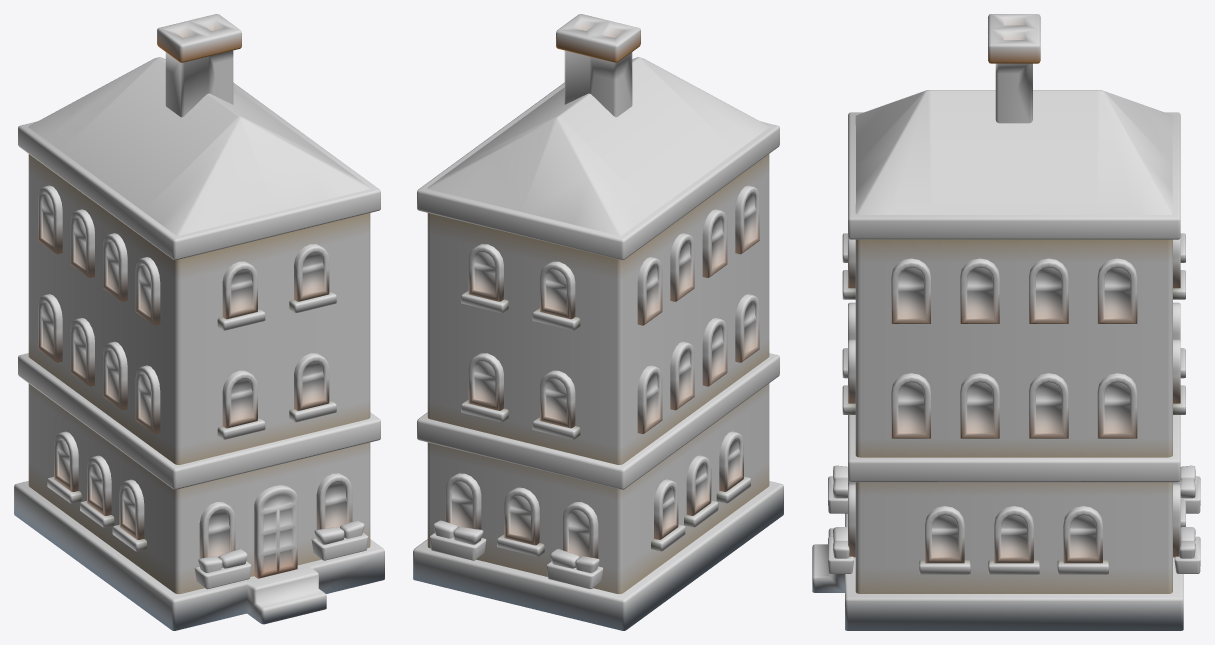
File: Building_126.fbx
The picture shows the model from 3 angles, left to right: view 1: azimuth 30°, elevation 25°; view 2: azimuth 150°, elevation 25°; view 3: azimuth 270°, elevation 25°; orthographic projection. The views are drawn at different scales.
Parts seen in each view (by area): view 1: Building_126; view 2: Building_126; view 3: Building_126.
Part boxes in pixels (bbox=[...]): Building_126: bbox=[14, 14, 384, 630]; Building_126: bbox=[413, 14, 783, 630]; Building_126: bbox=[812, 14, 1200, 630].
Bounding box in the file's own units: 666 × 980 × 1523.
